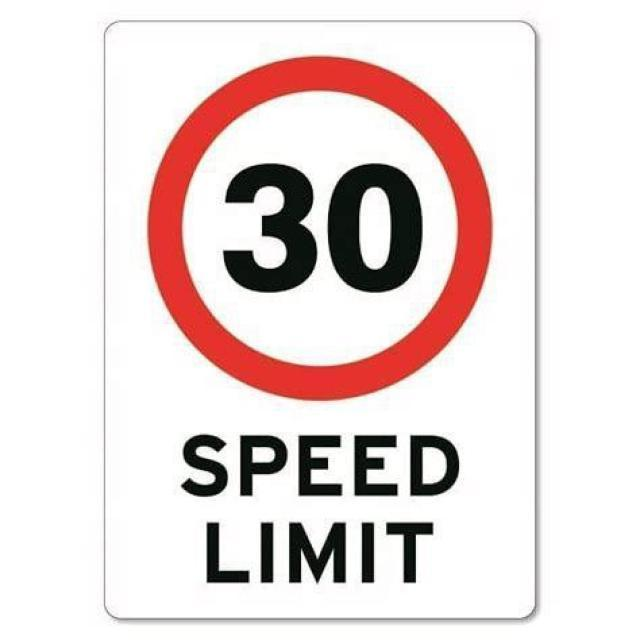speed limit 30: (149, 53, 495, 402)
